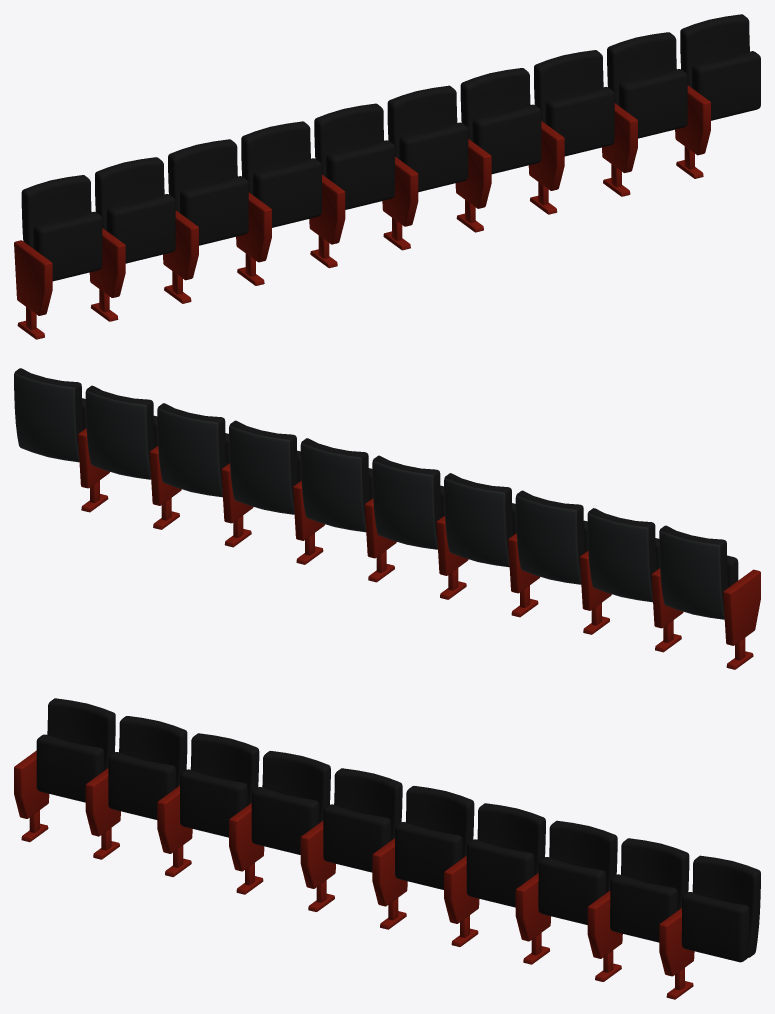
File: chairclosearray10.fbx
3 views of the same model, one above another, from view 1: azimuth 30°, elevation 25°; view 2: azimuth 150°, elevation 25°; view 3: azimuth 330°, elevation 25° (orthographic). The views are drawn at different scales.
Visible parts, largest first — view 1: respaldo:001; view 2: respaldo:001; view 3: respaldo:001.
Boxes of the visible parts, <box> form: respaldo:001: <box>14,14,760,339</box>; respaldo:001: <box>14,368,760,669</box>; respaldo:001: <box>14,698,760,999</box>.
Bounding box in the file's own units: 1037 × 177 × 88.24.
Materials: 2 (2 with a texture image).
